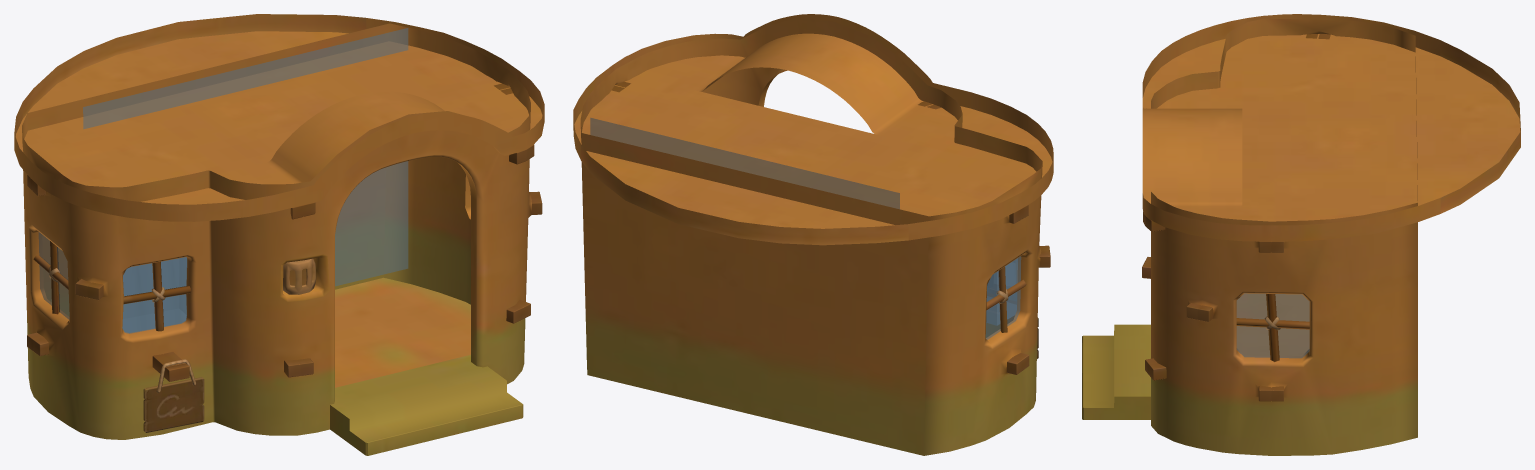
File: wall-nd-soil.glb
3 renders of one model, left to right at view 1: azimuth 30°, elevation 25°; view 2: azimuth 150°, elevation 25°; view 3: azimuth 270°, elevation 25°, orthographic. The views are drawn at different scales.
Size of the model in its own units: 39.03 by 24.07 by 34.24.
7 materials, 3 textured.
